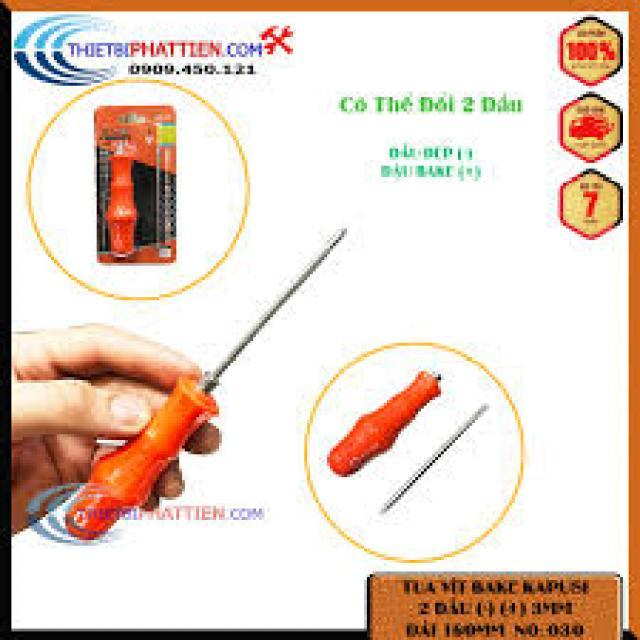screwdriver: (60, 218, 362, 553)
